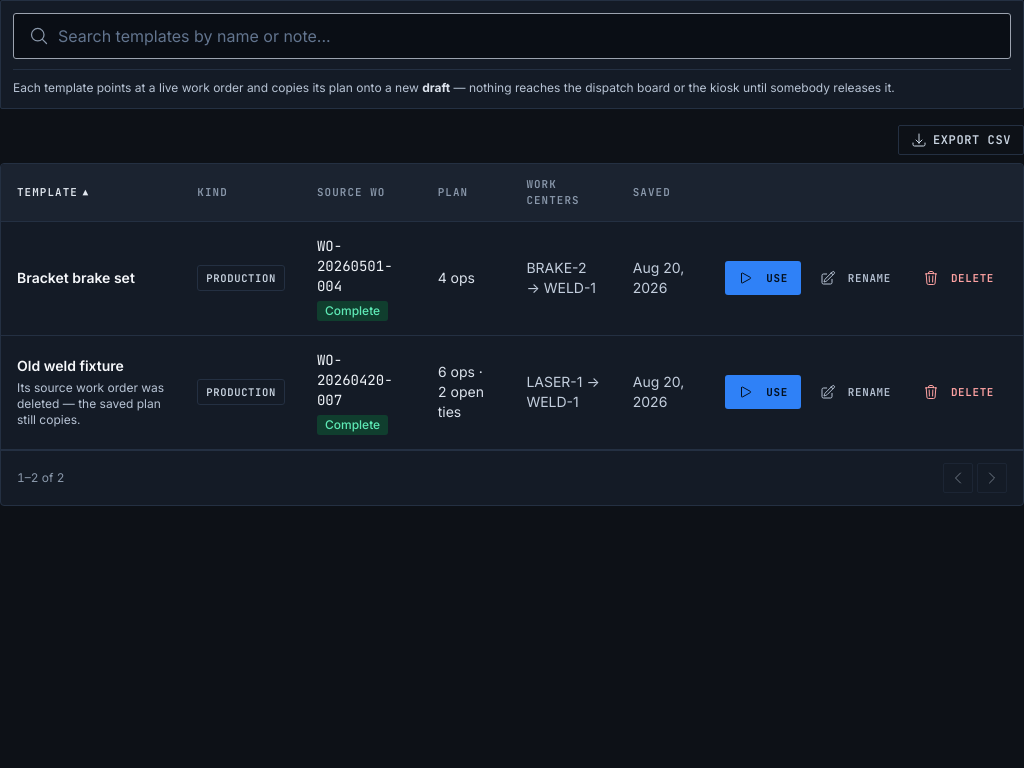
it: WorkOrderTemplatesPanel: Use behaves identically to a live-source template › opens the dialog with the form, not a refusal box
Expected: the text "Old weld fixture" is shown, [17,357,124,374]
Click the button with aria-label "Use template Old weld fixture". click: (763, 392)
box: [725,375,801,409]
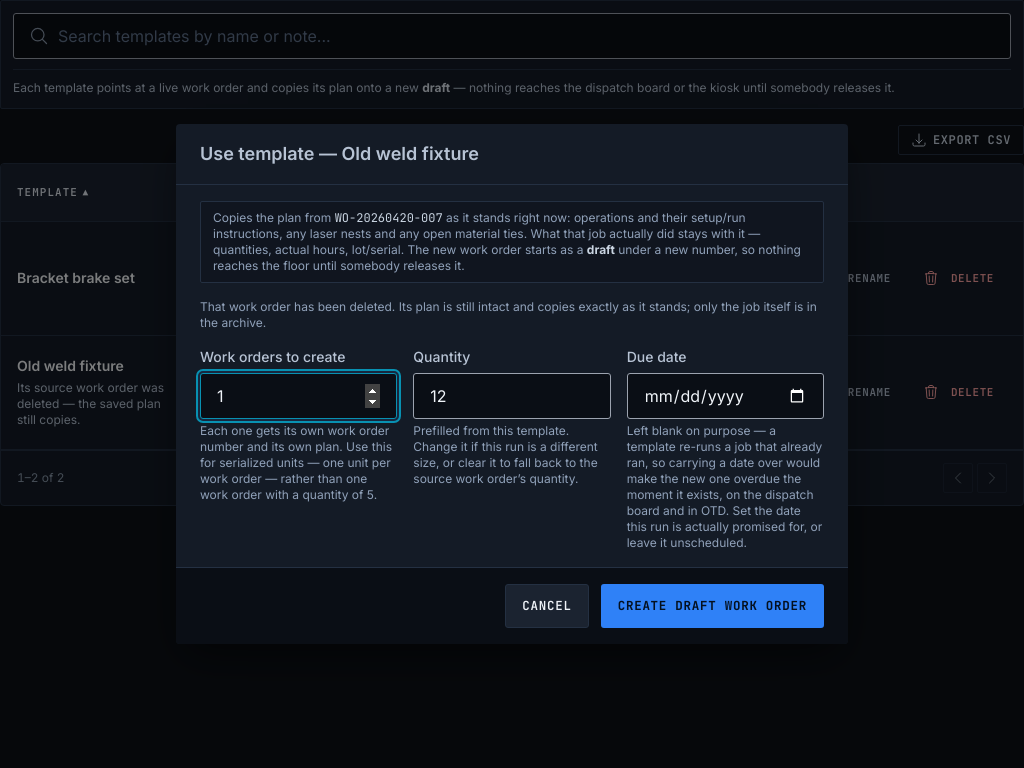
Now the button "Create draft work order" is enabled, box [601,584,824,628]
